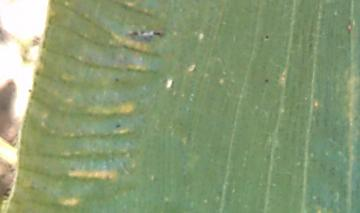tarspot: (123, 26, 169, 42), (110, 75, 124, 84), (111, 122, 124, 131), (262, 74, 271, 86), (263, 31, 271, 43)
